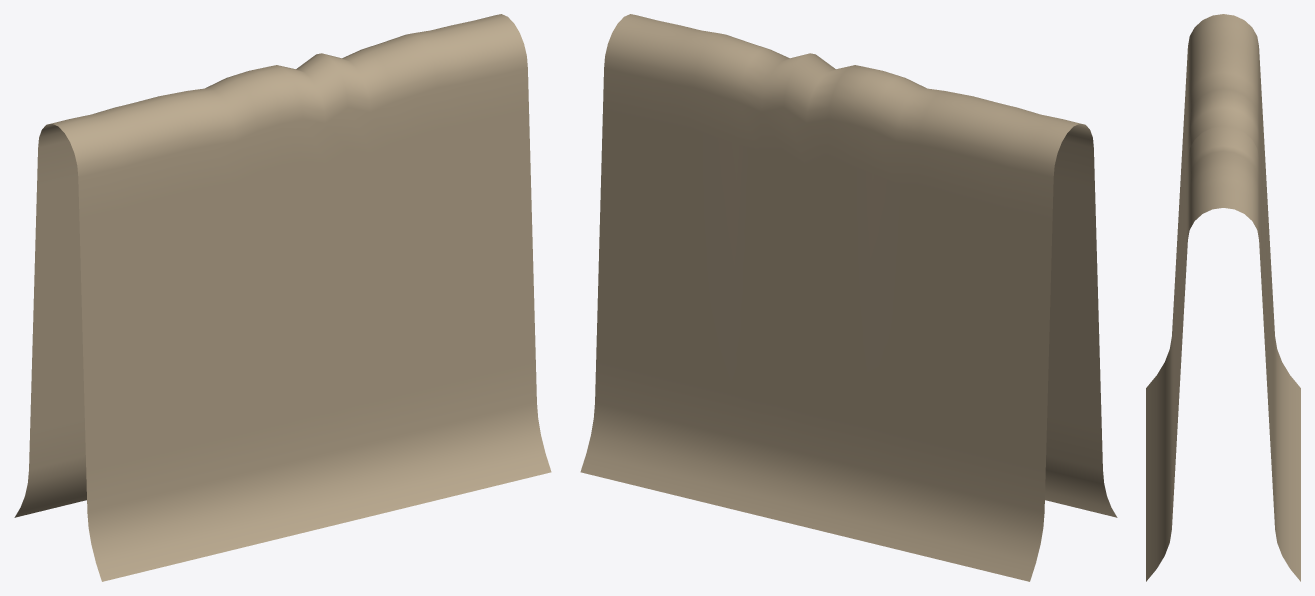
Rendered from KFB_Wall_straight.r1.glb.
The picture shows the model from 3 angles, left to right: view 1: azimuth 30°, elevation 25°; view 2: azimuth 150°, elevation 25°; view 3: azimuth 270°, elevation 25°; orthographic projection. The views are drawn at different scales.
Parts seen in each view (by area): view 1: KFB_Wall_straight; view 2: KFB_Wall_straight; view 3: KFB_Wall_straight.
Part boxes in pixels (bbox=[...]): KFB_Wall_straight: bbox=[14, 14, 551, 581]; KFB_Wall_straight: bbox=[580, 14, 1117, 581]; KFB_Wall_straight: bbox=[1146, 14, 1300, 581].
Size of the model in its own units: 4 by 3.64 by 1.35.
